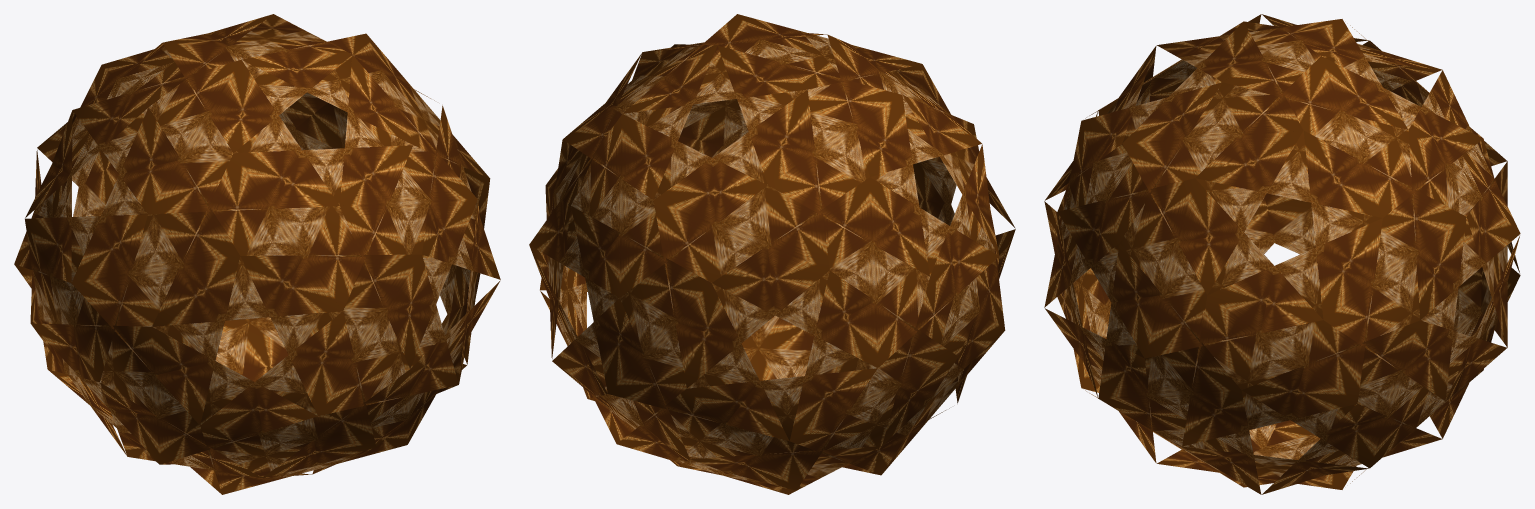
The model's file is 20SnubDodecadodecahedron.gltf.
The picture shows the model from 3 angles, left to right: view 1: azimuth 30°, elevation 25°; view 2: azimuth 150°, elevation 25°; view 3: azimuth 270°, elevation 25°; orthographic projection.
Parts seen in each view (by area): view 1: 16SnubDodecadodecahedron; view 2: 16SnubDodecadodecahedron; view 3: 16SnubDodecadodecahedron.
Boxes of the visible parts, x1=… form: 16SnubDodecadodecahedron: x1=14, y1=14, x2=500, y2=494; 16SnubDodecadodecahedron: x1=529, y1=14, x2=1015, y2=494; 16SnubDodecadodecahedron: x1=1044, y1=14, x2=1520, y2=494.
Size of the model in its own units: 2.48 by 2.48 by 2.48.
1 material, 1 textured.
